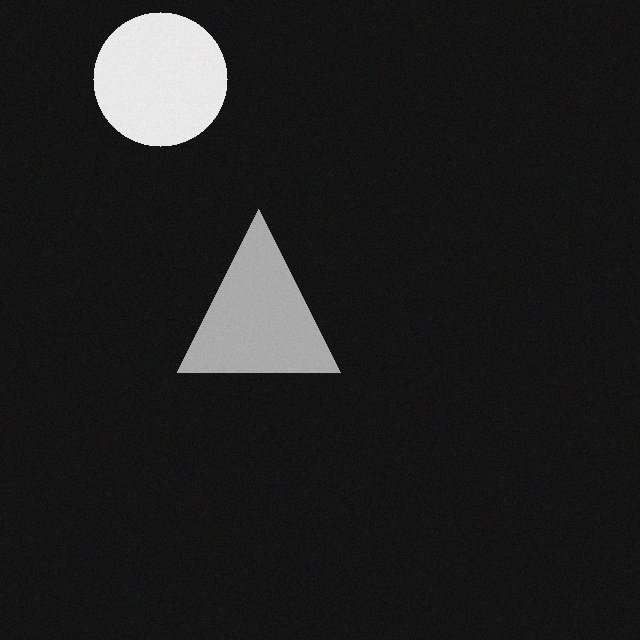circle: (85, 18, 219, 152)
triangle: (169, 215, 332, 378)
